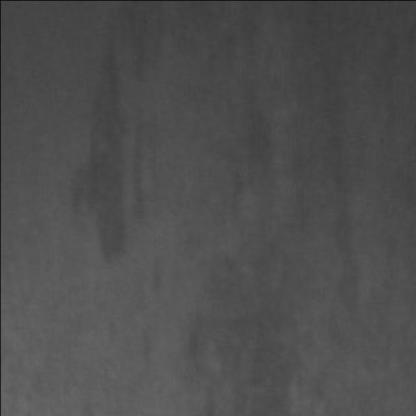inclusion: (306, 62, 376, 333), (72, 40, 150, 268), (216, 79, 275, 202), (191, 296, 233, 398)
